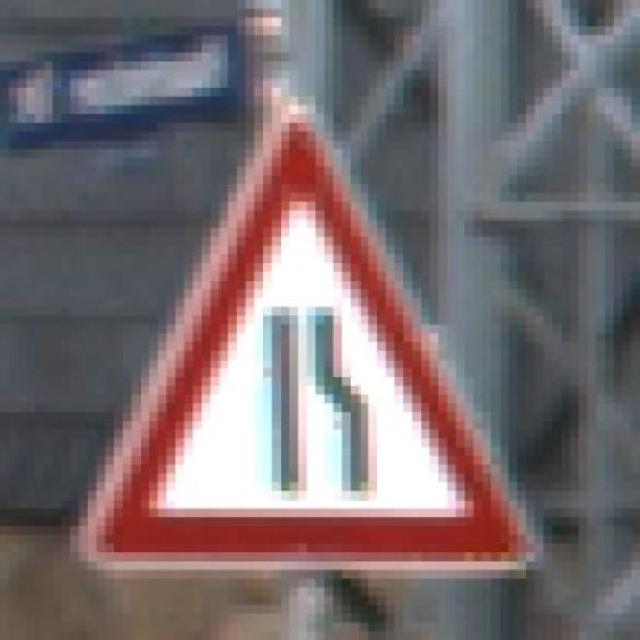-Road narrows on right: (61, 96, 552, 596)
